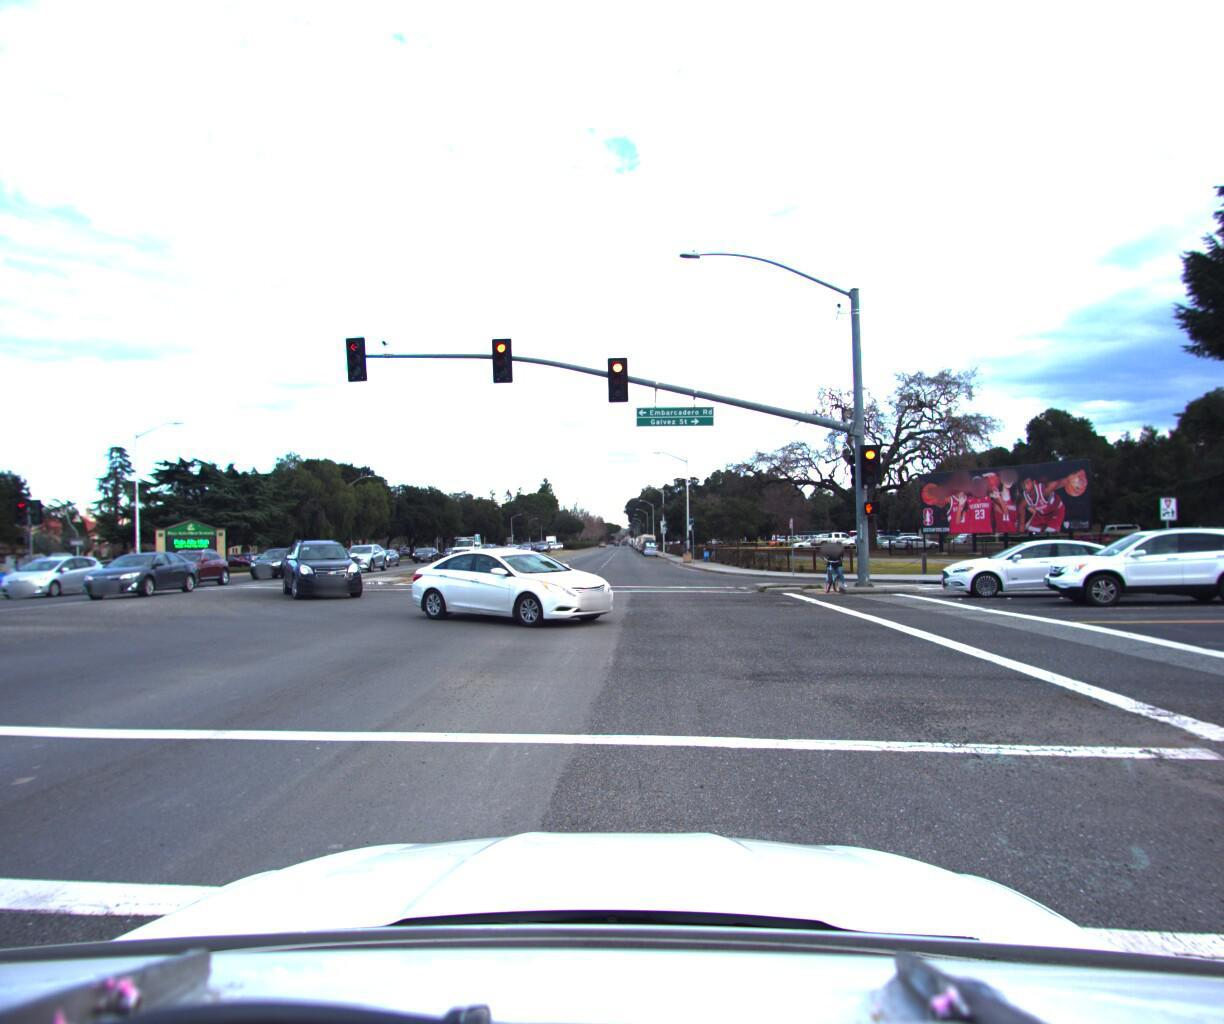bicycle: (812, 531, 846, 589)
car: (402, 538, 633, 626), (1026, 522, 1224, 601), (925, 531, 1146, 594), (69, 547, 203, 600), (282, 535, 364, 600), (152, 544, 242, 586), (245, 540, 308, 578), (334, 538, 389, 571), (449, 530, 485, 557)
